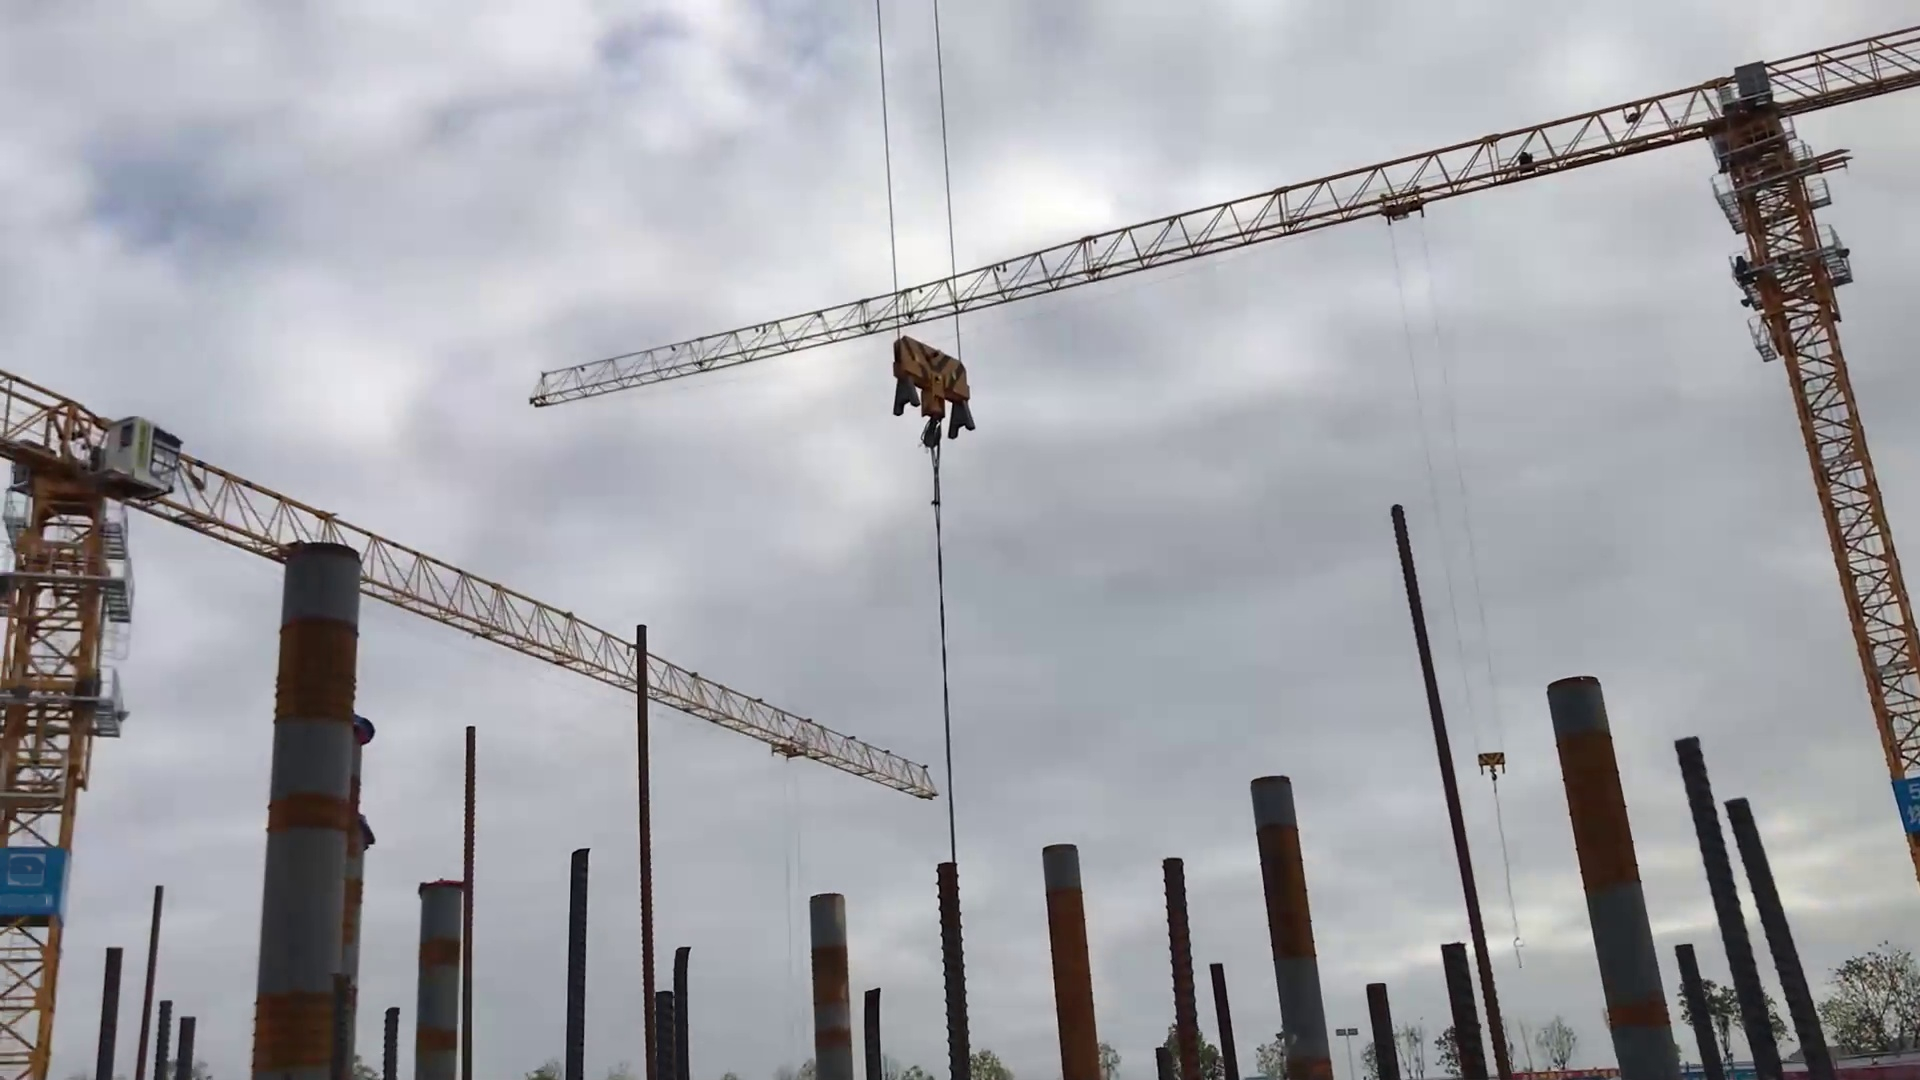hook: (887, 331, 988, 448), (1472, 742, 1519, 790)
